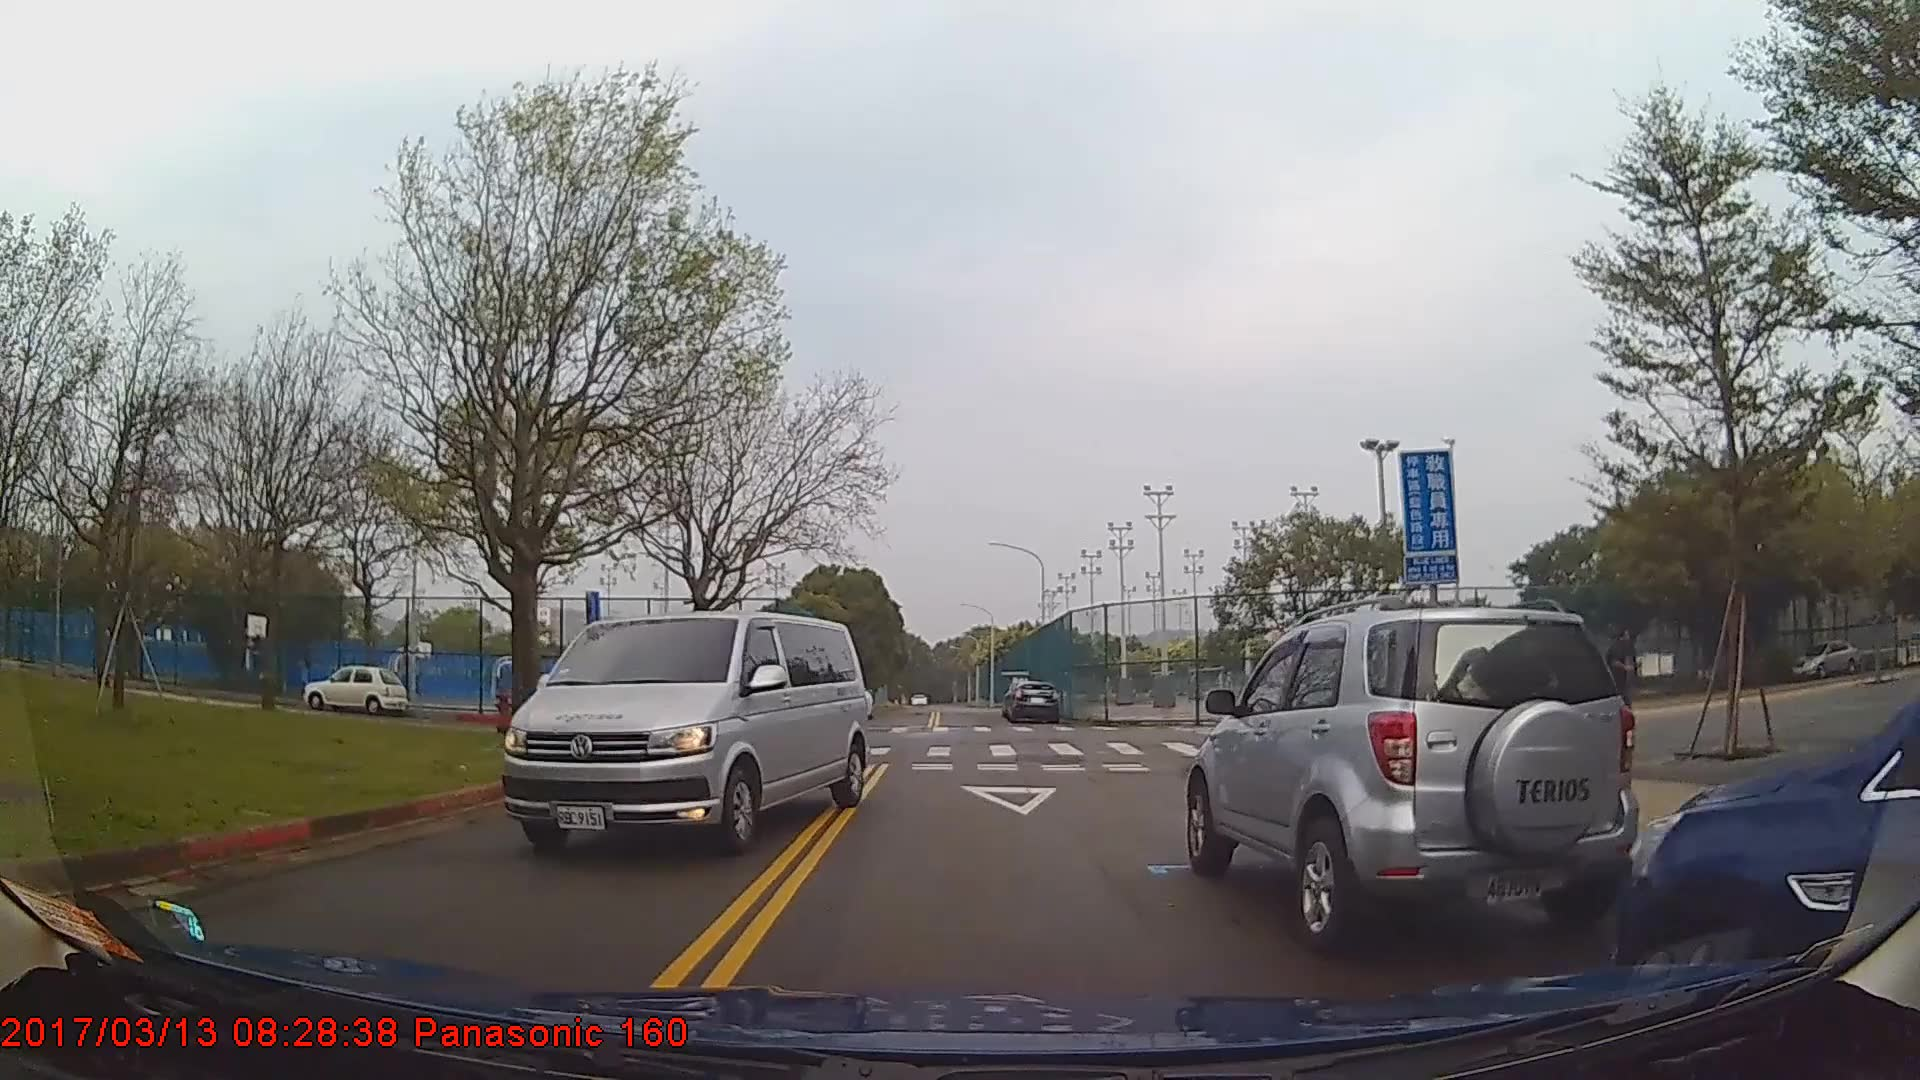vehicle: (1184, 607, 1638, 947), (1609, 696, 1920, 1030), (498, 608, 868, 856), (298, 662, 407, 713), (1789, 640, 1861, 680), (1005, 679, 1062, 723)
